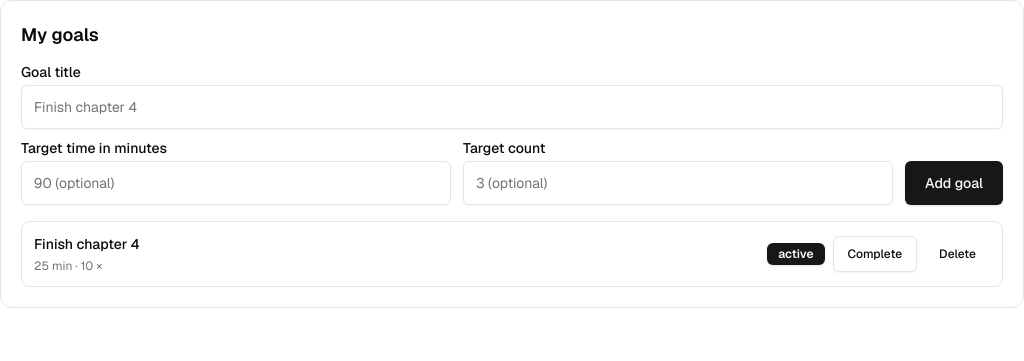
Test: GoalsPanel › shows the server's message when the goal is not the caller's
The width and height of the screenshot is (1024, 361).
What coordinates should you click on to do the following:
click the button named "Delete goal Finish chapter 4"
I would click on:
 (958, 254)
Its box is [925, 236, 990, 272].
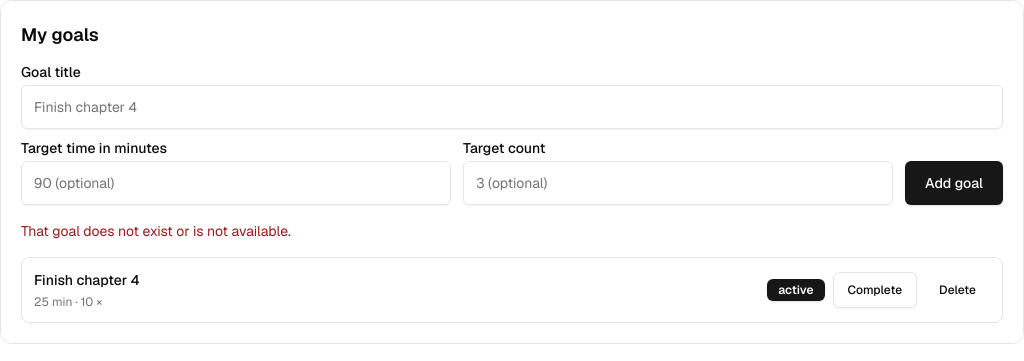
Expected: the text "Finish chapter 4" is shown, [34, 270, 140, 290]
Result: the message reads "That goal does not exist or is not available." at [21, 222, 291, 240]
